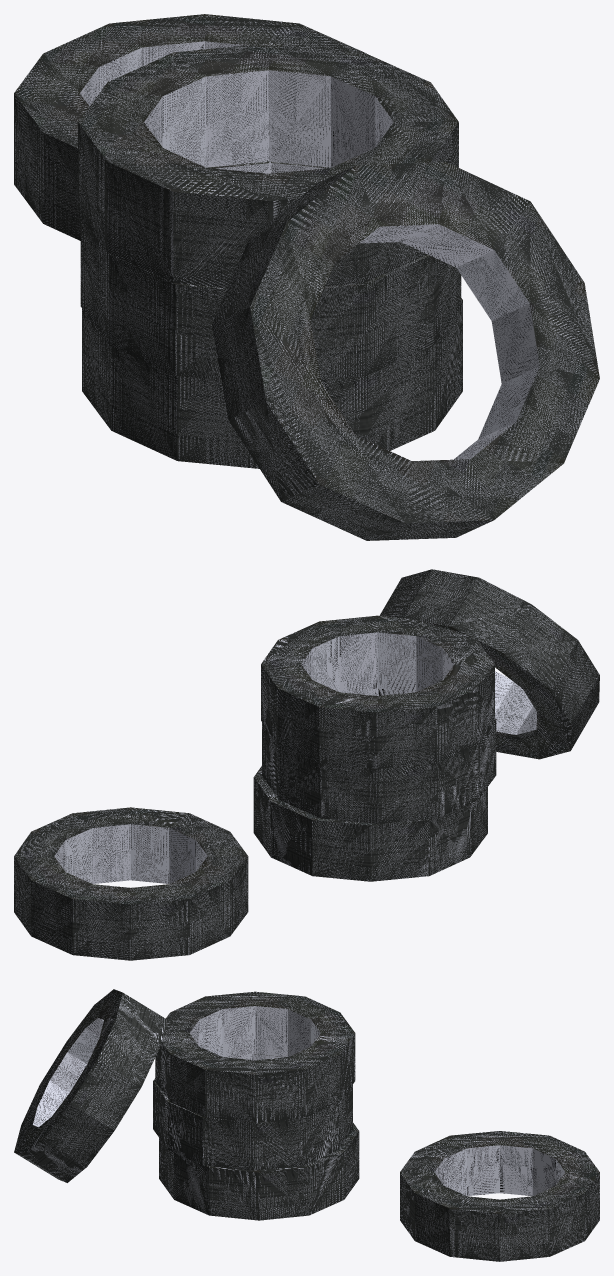
The model's file is tire-stack.glb.
3 renders of one model, top to bottom at view 1: azimuth 30°, elevation 25°; view 2: azimuth 150°, elevation 25°; view 3: azimuth 270°, elevation 25°, orthographic. The views are drawn at different scales.
Visible parts, largest first — view 1: group_4, group_3, group_2, group_1, group_3.001, group_0, group_4.001, group_0.001; view 2: group_0, group_3, group_4, group_1, group_2, group_3.001, group_0.001, group_4.001; view 3: group_0, group_3, group_4, group_1, group_2, group_0.001, group_3.001, group_4.001.
Boxes of the visible parts, x1,y1,x2,y2 form: group_4: (212, 162, 599, 540); group_3: (78, 43, 458, 288); group_2: (80, 161, 461, 380); group_1: (82, 298, 462, 468); group_3.001: (144, 70, 393, 167); group_0: (14, 14, 366, 240); group_4.001: (359, 224, 539, 459); group_0.001: (80, 41, 243, 106); group_0: (14, 807, 248, 960); group_3: (261, 615, 494, 768); group_4: (379, 569, 599, 759); group_1: (253, 766, 487, 881); group_2: (262, 718, 496, 823); group_3.001: (301, 632, 454, 692); group_0.001: (54, 824, 207, 883); group_4.001: (495, 671, 536, 734); group_0: (400, 1131, 599, 1261); group_3: (155, 991, 355, 1122); group_4: (14, 989, 166, 1182); group_1: (159, 1123, 359, 1220); group_2: (153, 1054, 352, 1170); group_0.001: (434, 1145, 565, 1196); group_3.001: (190, 1006, 320, 1056); group_4.001: (33, 1018, 103, 1127).
Size of the model in its own units: 1.97 by 1.24 by 3.72.
3 materials, 2 textured.
